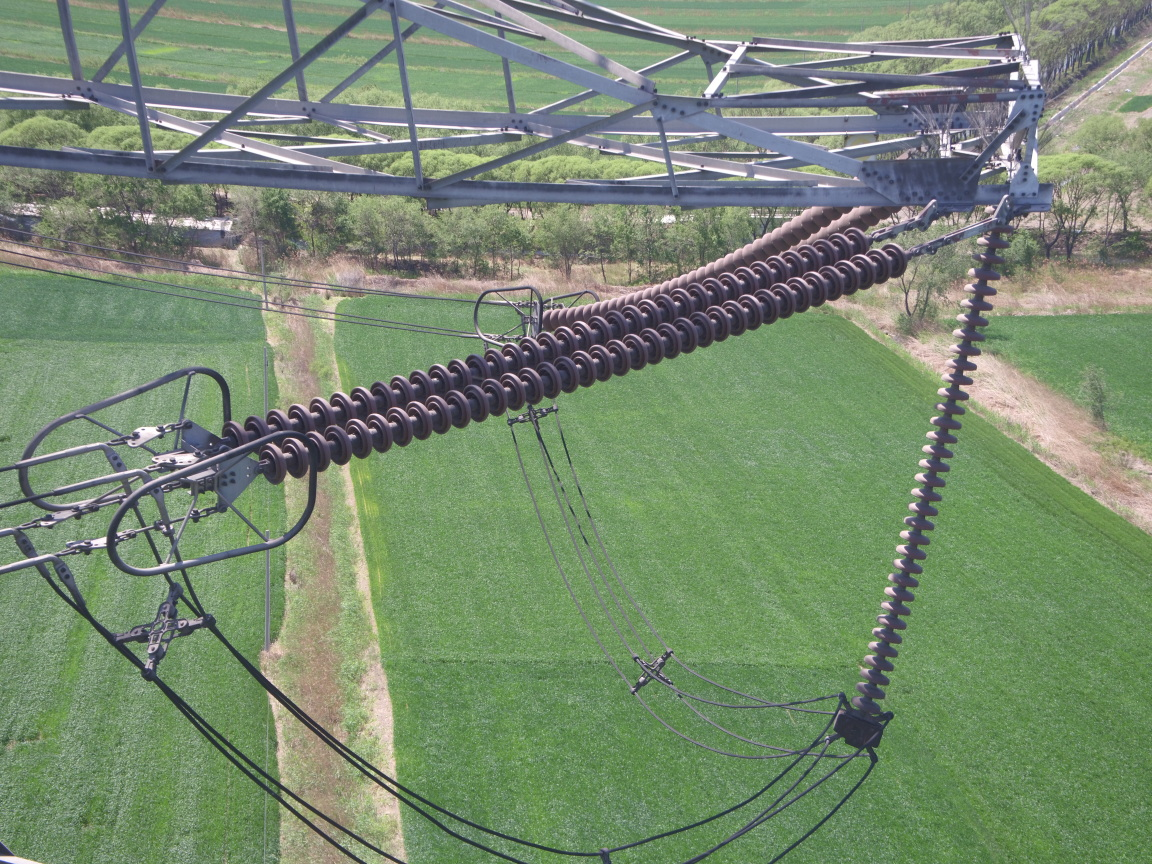insulator: (215, 223, 926, 488)
